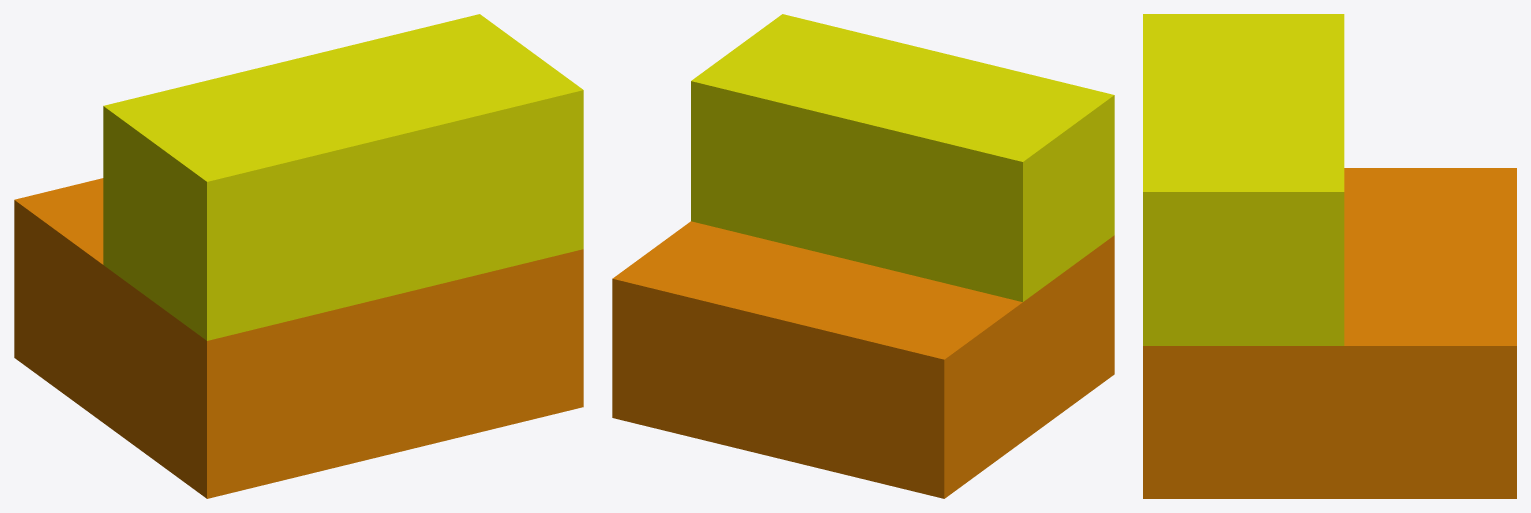
Rendered from Stair_Building2.fbx.
3 renders of one model, left to right at view 1: azimuth 30°, elevation 25°; view 2: azimuth 150°, elevation 25°; view 3: azimuth 270°, elevation 25°, orthographic. The views are drawn at different scales.
Parts seen in each view (by area): view 1: pCube107; view 2: pCube107; view 3: pCube107.
Boxes of the visible parts, <box> form: pCube107: <box>14,14,583,498</box>; pCube107: <box>612,14,1114,498</box>; pCube107: <box>1143,14,1516,498</box>.
Size of the model in its own units: 118 by 94.69 by 104.
